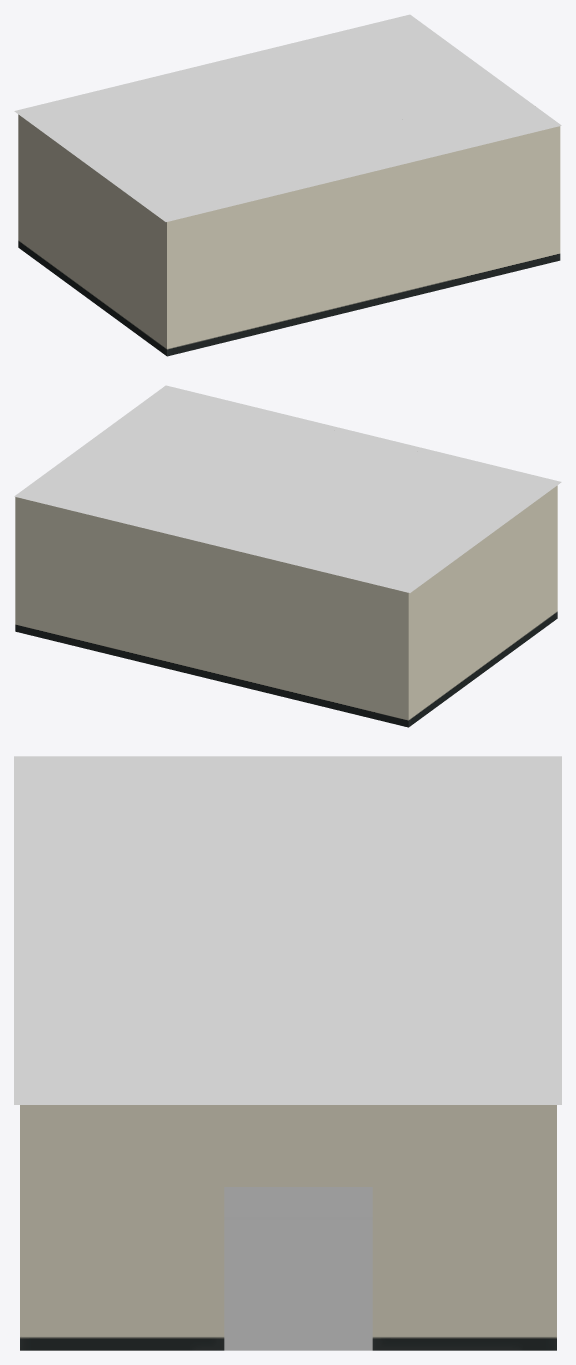
The model's file is Shell.fbx.
3 renders of one model, top to bottom at view 1: azimuth 30°, elevation 25°; view 2: azimuth 150°, elevation 25°; view 3: azimuth 270°, elevation 25°, orthographic. The views are drawn at different scales.
Parts seen in each view (by area): view 1: Ceiling1, Room, Room1; view 2: Ceiling1, Room, Room1; view 3: Ceiling1, Room1, Floor1.
Boxes of the visible parts, box(x1,y1,x2,y2) form: Ceiling1: box(14, 14, 561, 221); Room: box(18, 114, 453, 356); Room1: box(453, 126, 560, 286); Ceiling1: box(14, 385, 561, 592); Room: box(122, 485, 557, 727); Room1: box(15, 497, 121, 657); Ceiling1: box(14, 756, 561, 1104); Room1: box(20, 1105, 556, 1350); Floor1: box(224, 1187, 372, 1350).
Size of the model in its own units: 1114 by 366 by 740.
